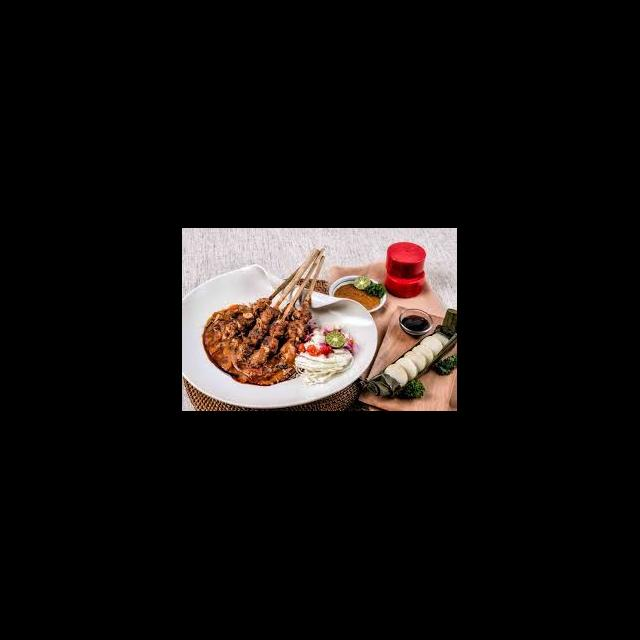food_waste: (216, 308, 298, 367)
